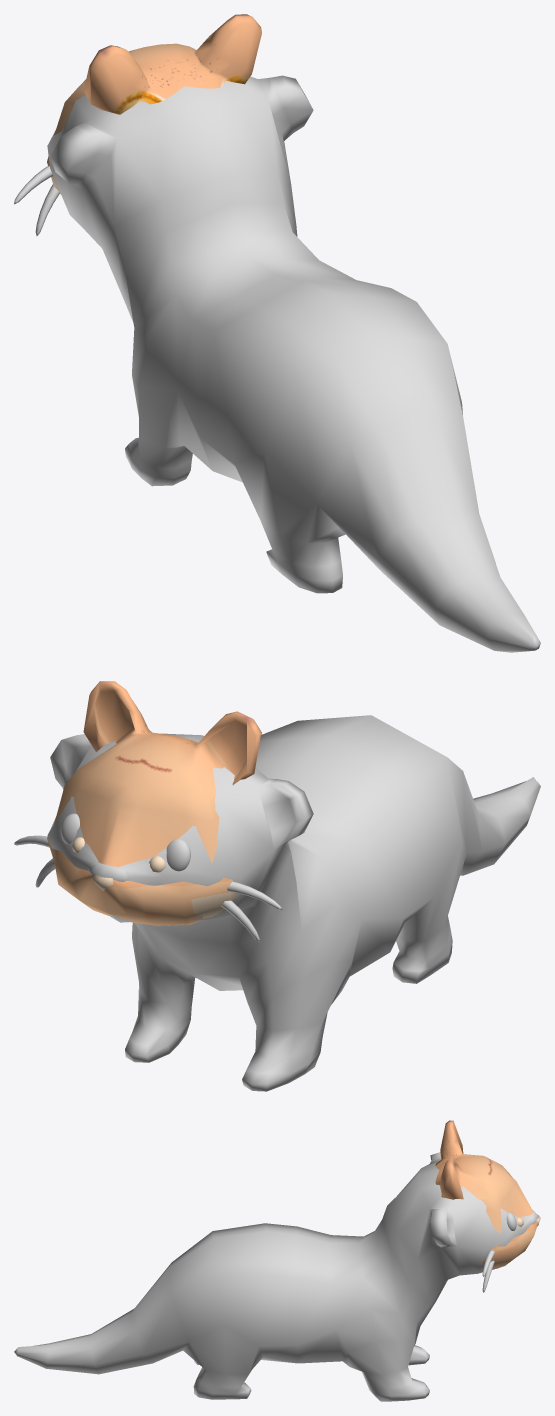
Rendered from Otter.fbx.
3 renders of one model, top to bottom at view 1: azimuth 30°, elevation 25°; view 2: azimuth 150°, elevation 25°; view 3: azimuth 270°, elevation 25°, orthographic. The views are drawn at different scales.
Visible parts, largest first — view 1: Cylinder, head, Cube.001; view 2: Cylinder, head, Cube.001, Sphere; view 3: Cylinder, head.
Boxes of the visible parts, box(x1,y1,x2,y2) form: Cylinder: box(47, 75, 540, 652); head: box(47, 14, 261, 194); Cube.001: box(14, 165, 59, 236); Cylinder: box(47, 715, 540, 1091); head: box(47, 681, 261, 925); Cube.001: box(14, 835, 282, 941); Sphere: box(60, 813, 190, 871); Cylinder: box(14, 1152, 539, 1401); head: box(435, 1120, 540, 1268).
Bounding box in the file's own units: 54.66 × 154 × 76.4.
